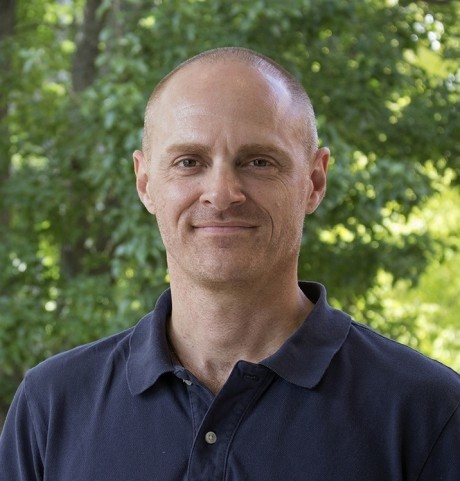face_no_mask: (136, 46, 331, 292)
